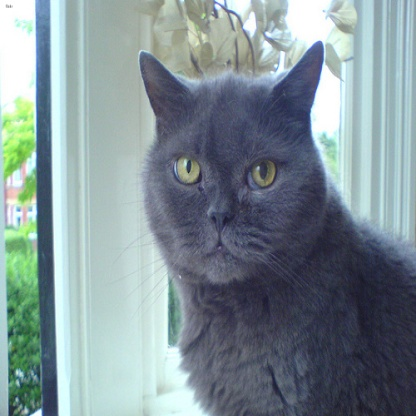british_shorthair: (138, 42, 412, 414)
